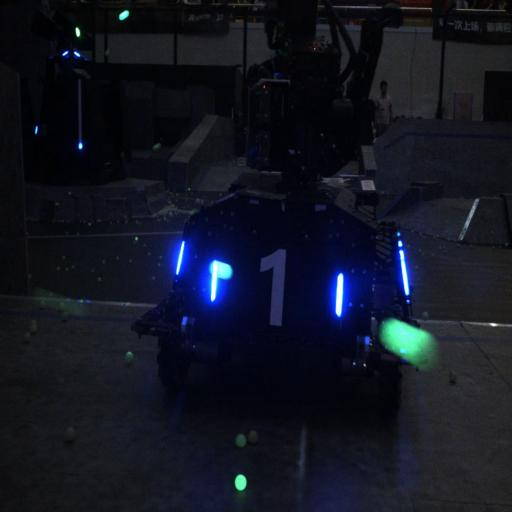target: (204, 231, 354, 359)
